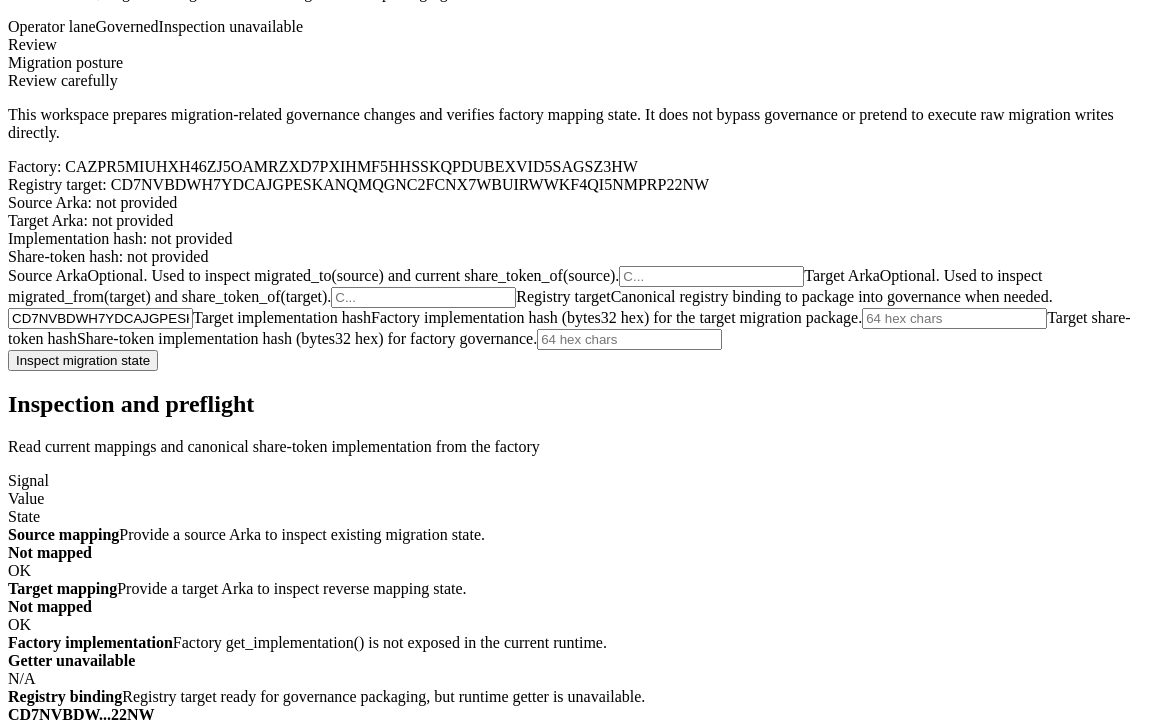
Scenario: MigrationsPage › surfaces degraded inspection state and recovers on retry
The width and height of the screenshot is (1152, 720).
(page scrolled)
Click the button with test id "migration-inspect-button": (83,360) left=8, top=350, right=158, bottom=371
(page scrolled)
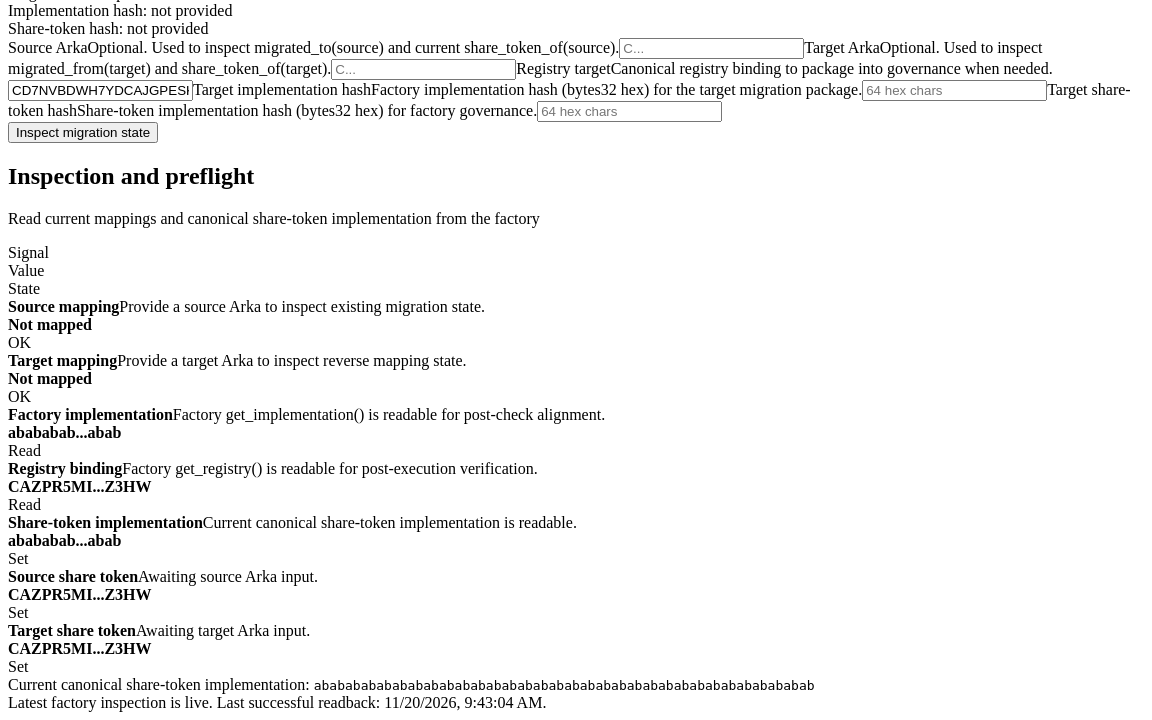
Now the text with test id "migration-inspection-mode-note" shows "Latest factory inspection is live.", box left=8, top=694, right=546, bottom=710
